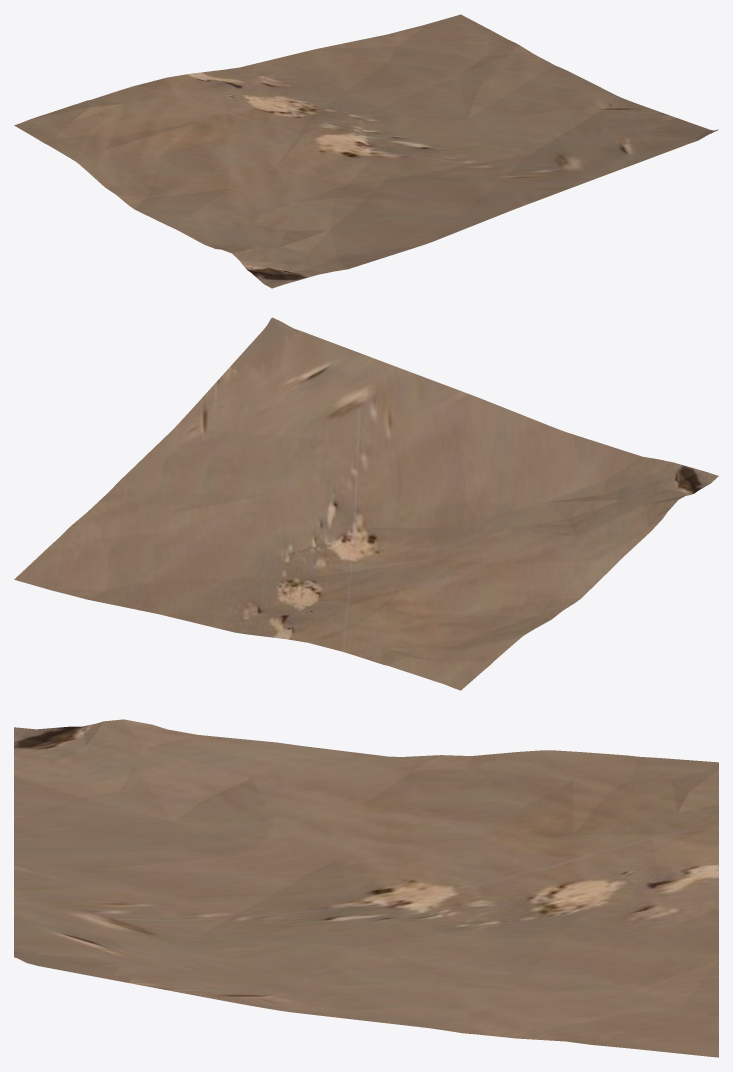
3 views of the same model, one above another, from view 1: azimuth 30°, elevation 25°; view 2: azimuth 150°, elevation 25°; view 3: azimuth 270°, elevation 25° (orthographic). The views are drawn at different scales.
Size of the model in its own units: 1.04 by 0.1697 by 1.04.
Materials: 2 (2 with a texture image).
